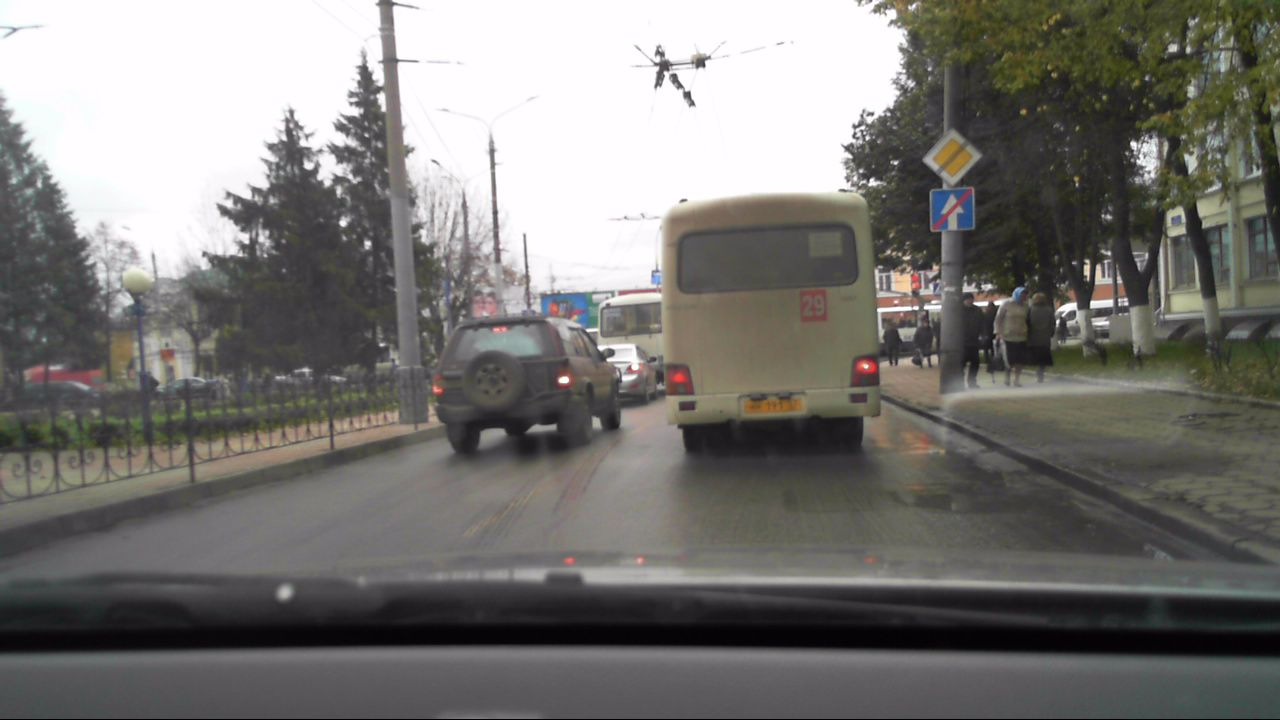main road: (921, 128, 982, 189)
